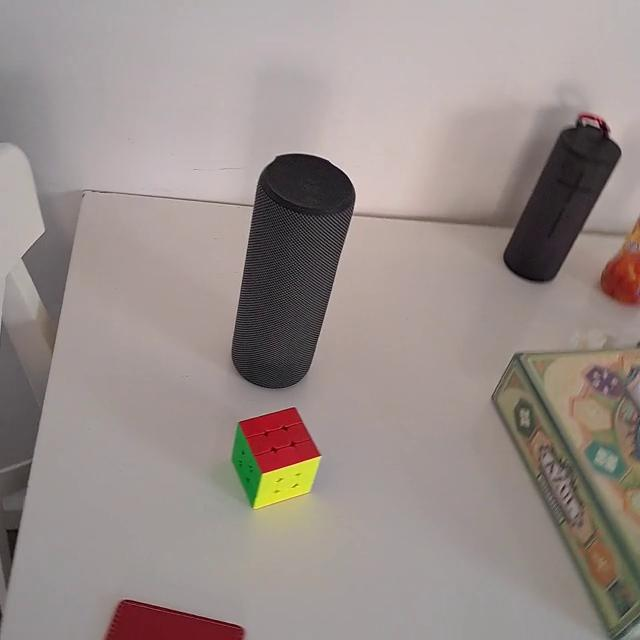rubix_cube: (227, 404, 324, 513)
